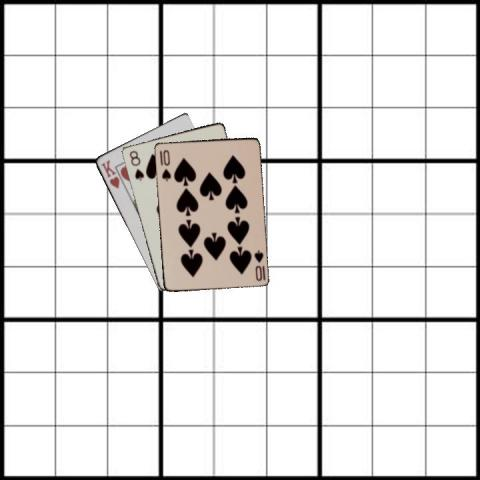10s: (251, 247, 264, 282), (159, 147, 172, 181)
8s: (126, 147, 145, 182)
Kh: (98, 157, 121, 190)
